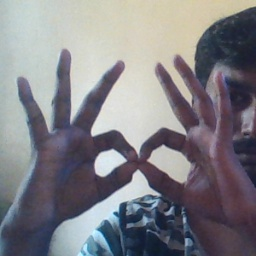B: (75, 84, 206, 207)
